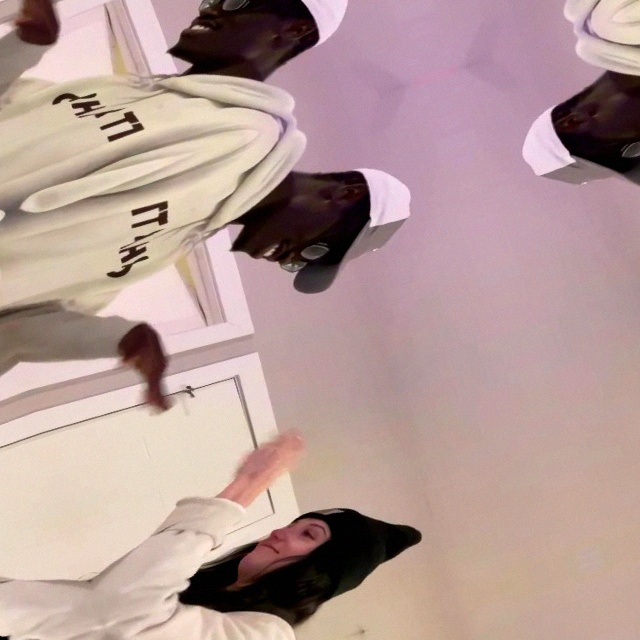Paper: (230, 418, 317, 492)
Scissors: (0, 0, 68, 52)
